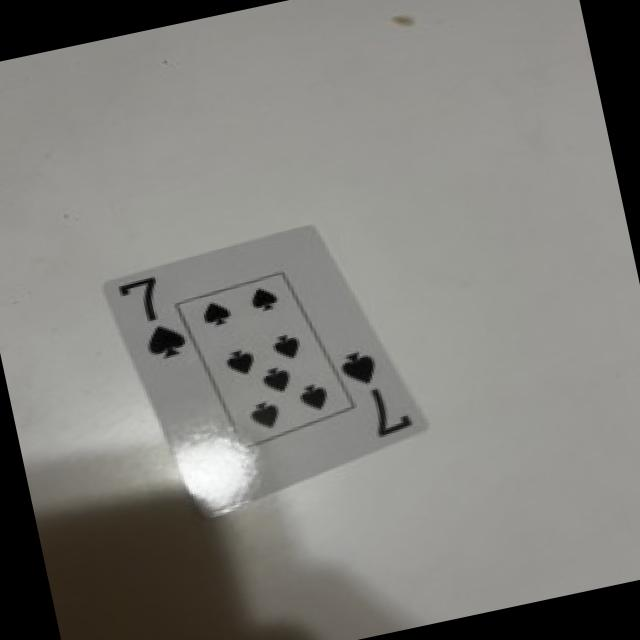7 of spades: (105, 226, 424, 514)
